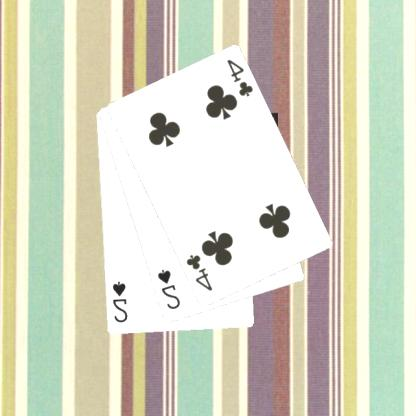2S: (156, 266, 184, 311), (111, 278, 131, 325)
4C: (184, 252, 216, 293), (226, 57, 257, 98)
